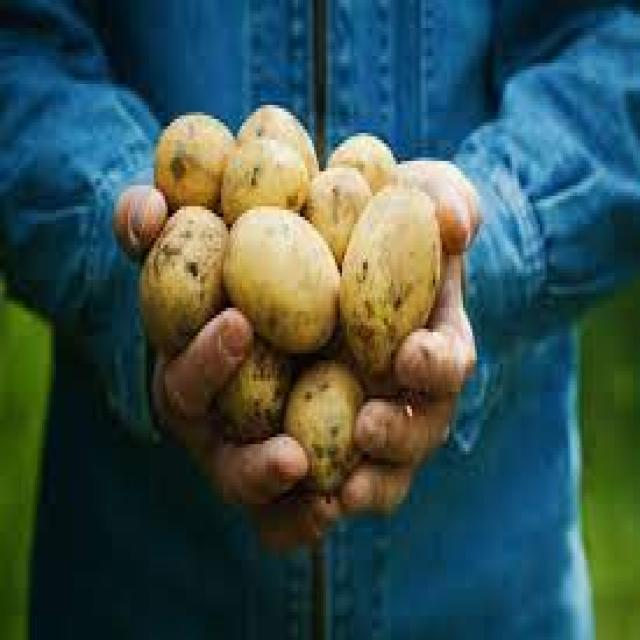Potato: (331, 142, 457, 380), (218, 194, 346, 361), (152, 105, 251, 230)
